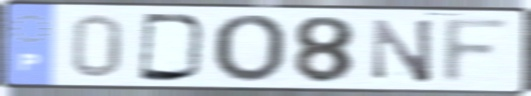0: (68, 12, 125, 81)
8: (290, 13, 360, 86)
D: (135, 11, 210, 84)
F: (438, 16, 518, 87)
N: (369, 17, 437, 86)
O: (209, 12, 292, 85)
